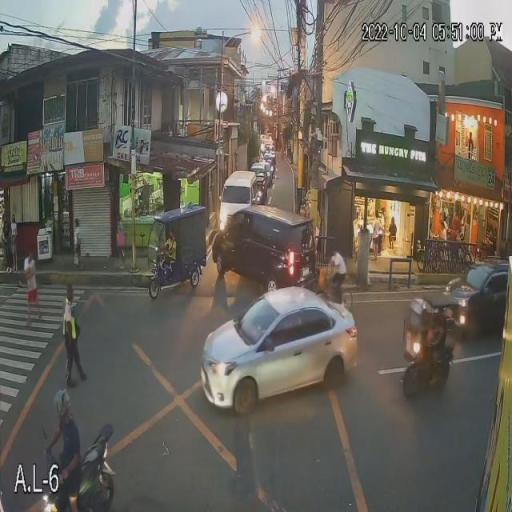helmet: (47, 389, 81, 420)
motorcycle: (15, 418, 125, 512)
rider: (49, 415, 88, 512)
